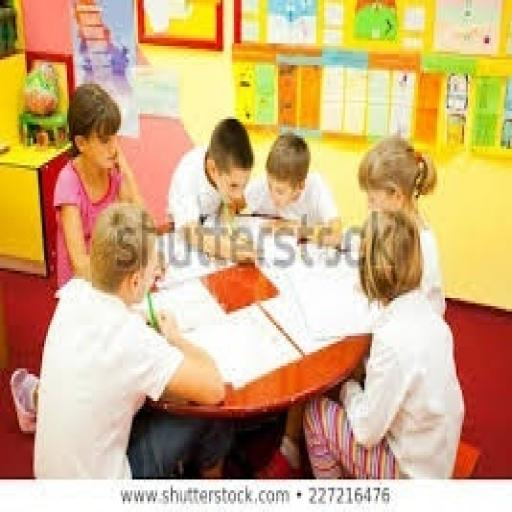sitting: (15, 78, 468, 476), (31, 200, 228, 480), (301, 206, 466, 479), (50, 78, 146, 292), (353, 133, 447, 317), (165, 114, 255, 230), (244, 128, 340, 228)
